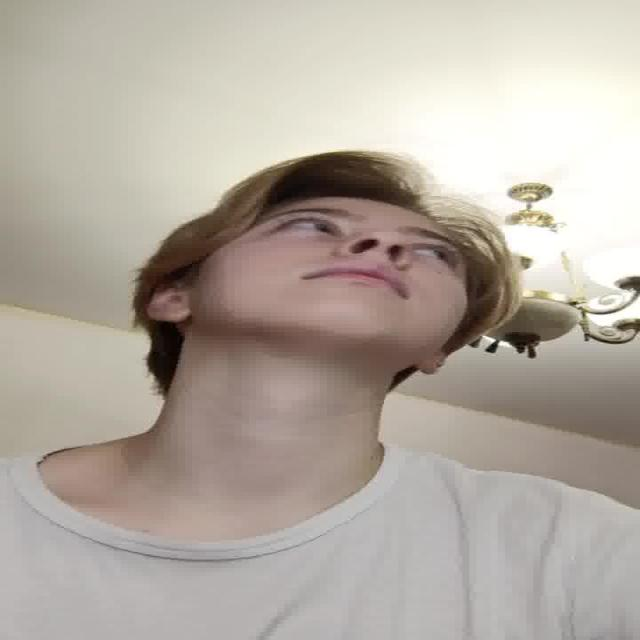earlobe: (138, 284, 191, 323)
